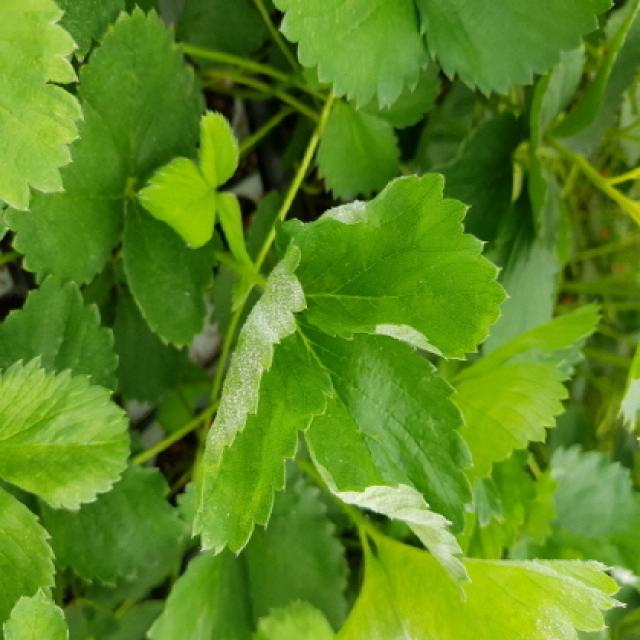Powdery Mildew Leaf: (294, 312, 476, 586), (189, 237, 333, 558), (274, 173, 512, 362), (372, 533, 627, 638)
